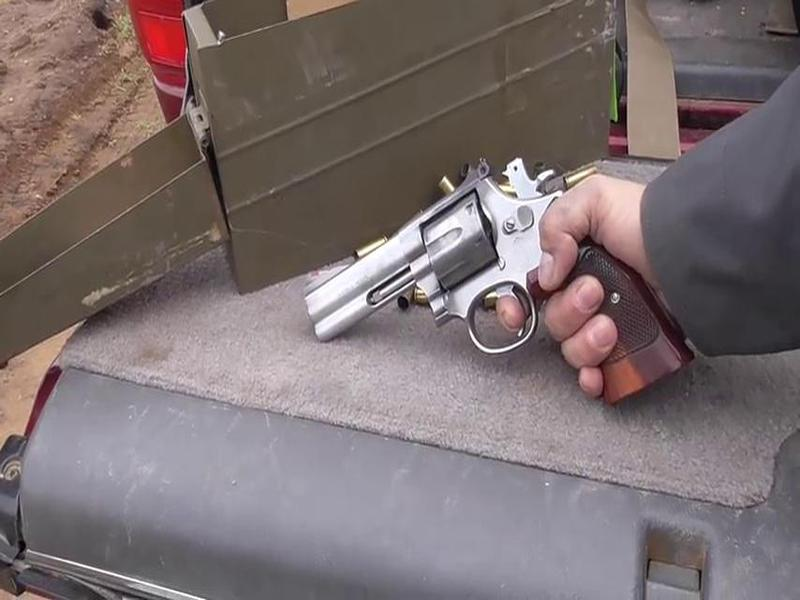Revolver: (300, 161, 626, 404)
